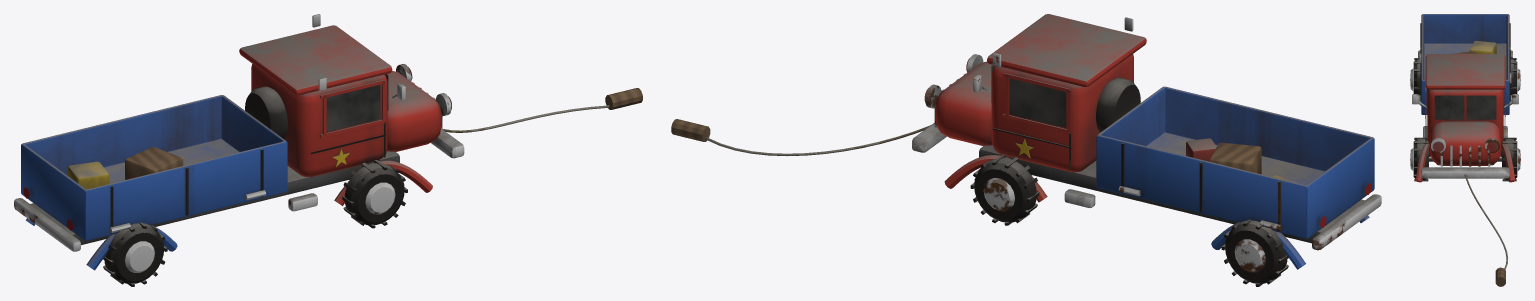
Rendered from SM_ToyTruck_Metal.fbx.
3 renders of one model, left to right at view 1: azimuth 30°, elevation 25°; view 2: azimuth 150°, elevation 25°; view 3: azimuth 270°, elevation 25°, orthographic. The views are drawn at different scales.
Parts seen in each view (by area): view 1: SM_ToyTruck_Metal; view 2: SM_ToyTruck_Metal; view 3: SM_ToyTruck_Metal.
Boxes of the visible parts, <box> form: SM_ToyTruck_Metal: <box>14,14,642,286</box>; SM_ToyTruck_Metal: <box>671,14,1381,286</box>; SM_ToyTruck_Metal: <box>1410,14,1520,286</box>.
Bounding box in the file's own units: 0.828 × 0.2025 × 0.188.
1 material, 1 textured.
